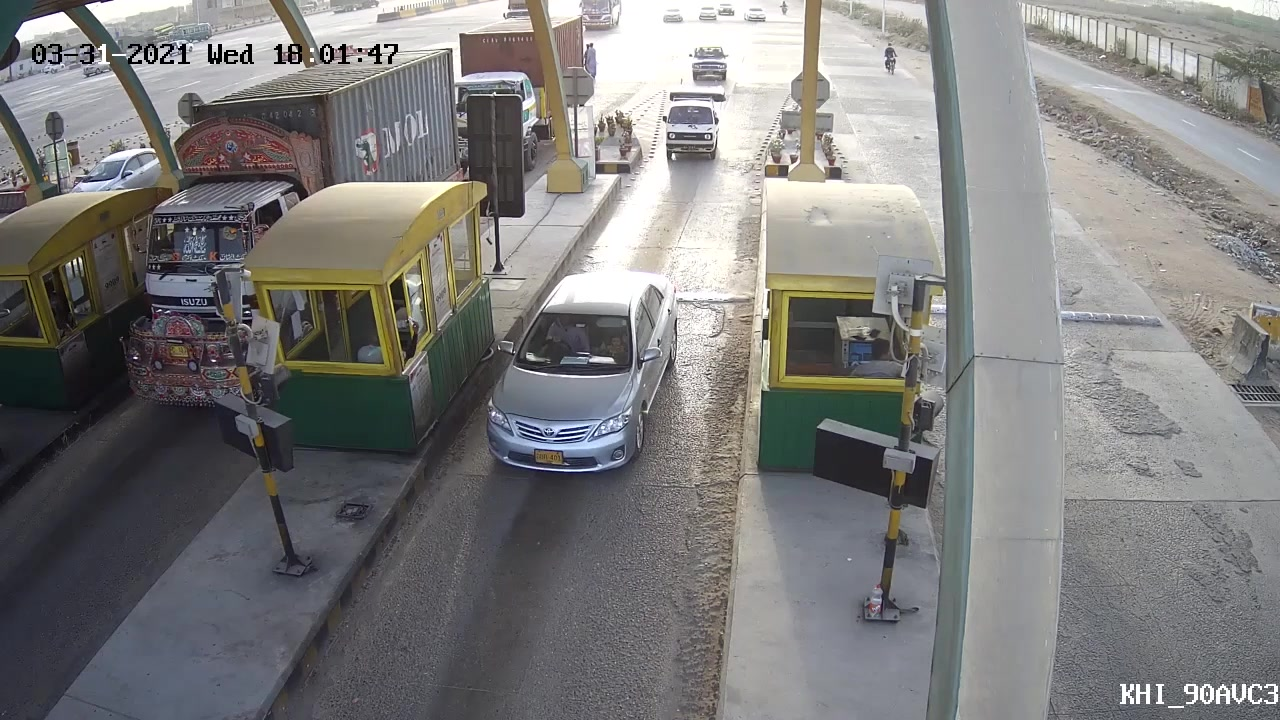F1: (473, 267, 689, 483)
